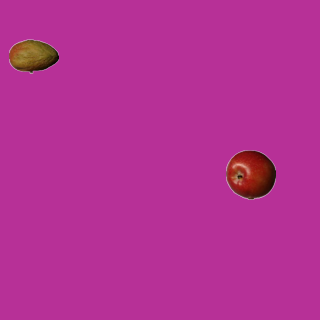Apple Braeburn: (225, 149, 275, 199)
Papaya: (8, 31, 58, 81)
